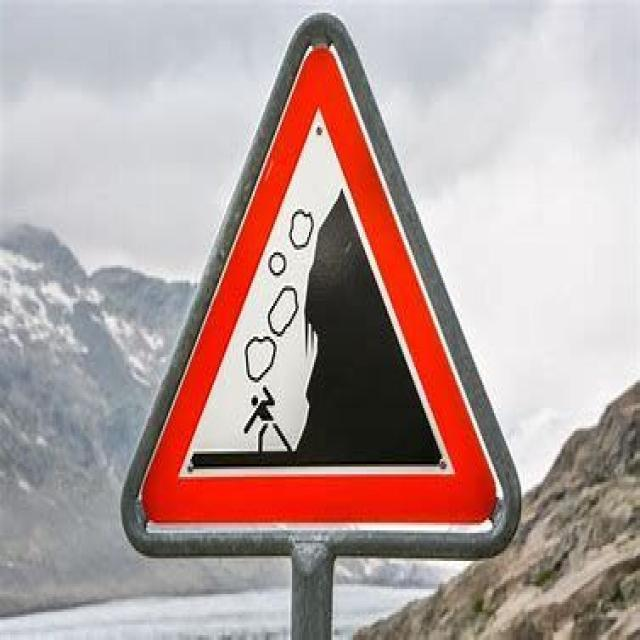falling rocks: (128, 28, 503, 540)
